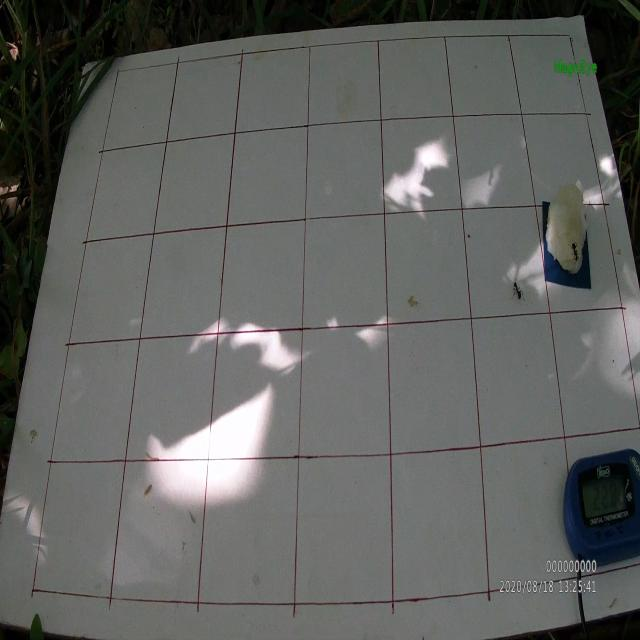Ant: (510, 278, 524, 305), (568, 238, 579, 264), (542, 209, 550, 230)
